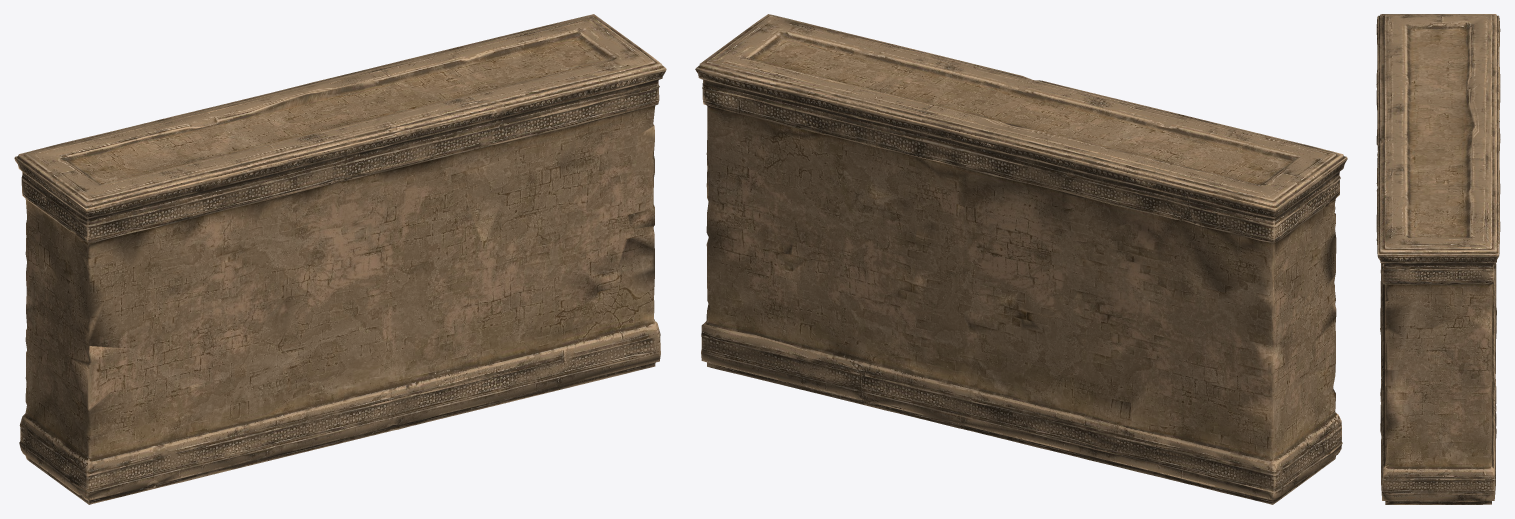
Rendered from desert_block_long_b.gltf.
The picture shows the model from 3 angles, left to right: view 1: azimuth 30°, elevation 25°; view 2: azimuth 150°, elevation 25°; view 3: azimuth 270°, elevation 25°; orthographic projection. The views are drawn at different scales.
Parts seen in each view (by area): view 1: desert_block_long_b; view 2: desert_block_long_b; view 3: desert_block_long_b.
Part boxes in pixels (box(x1,y1,x2,y2)): desert_block_long_b: box(14, 14, 666, 504); desert_block_long_b: box(695, 14, 1347, 504); desert_block_long_b: box(1376, 14, 1500, 504).
Bounding box in the file's own units: 39.99 × 20.11 × 8.74.
1 material, 1 textured.
